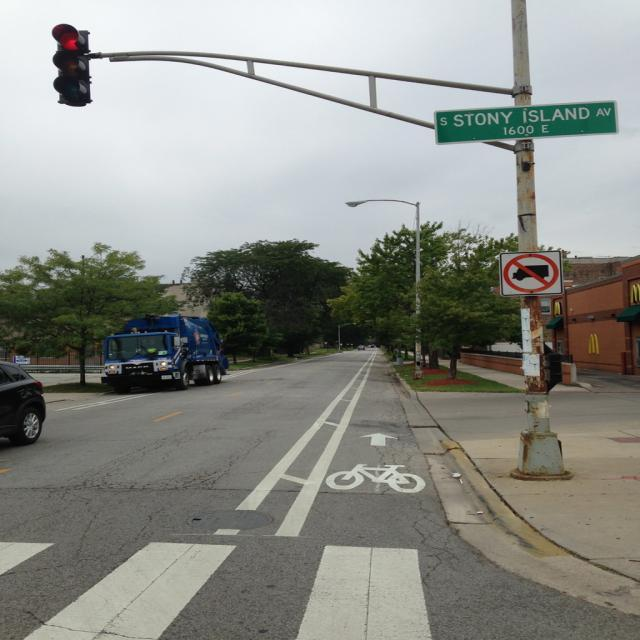road_sign: (499, 253, 567, 292)
traffic light: (53, 22, 90, 108)
